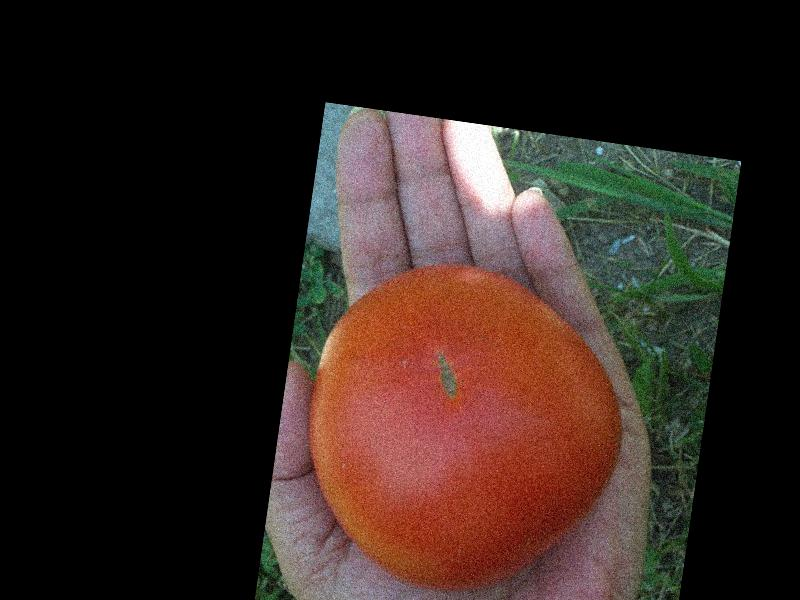Tomato: (288, 247, 642, 600)
